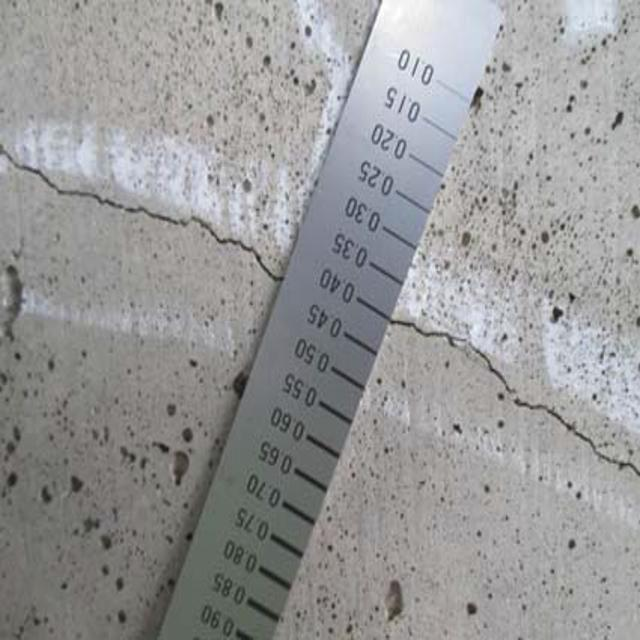crack: (380, 298, 633, 518), (4, 133, 280, 288)
